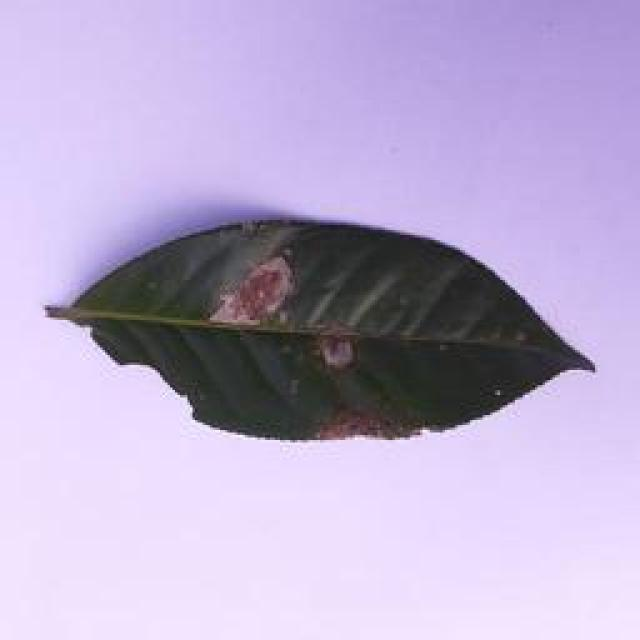Gray Blight: (41, 211, 611, 458)
